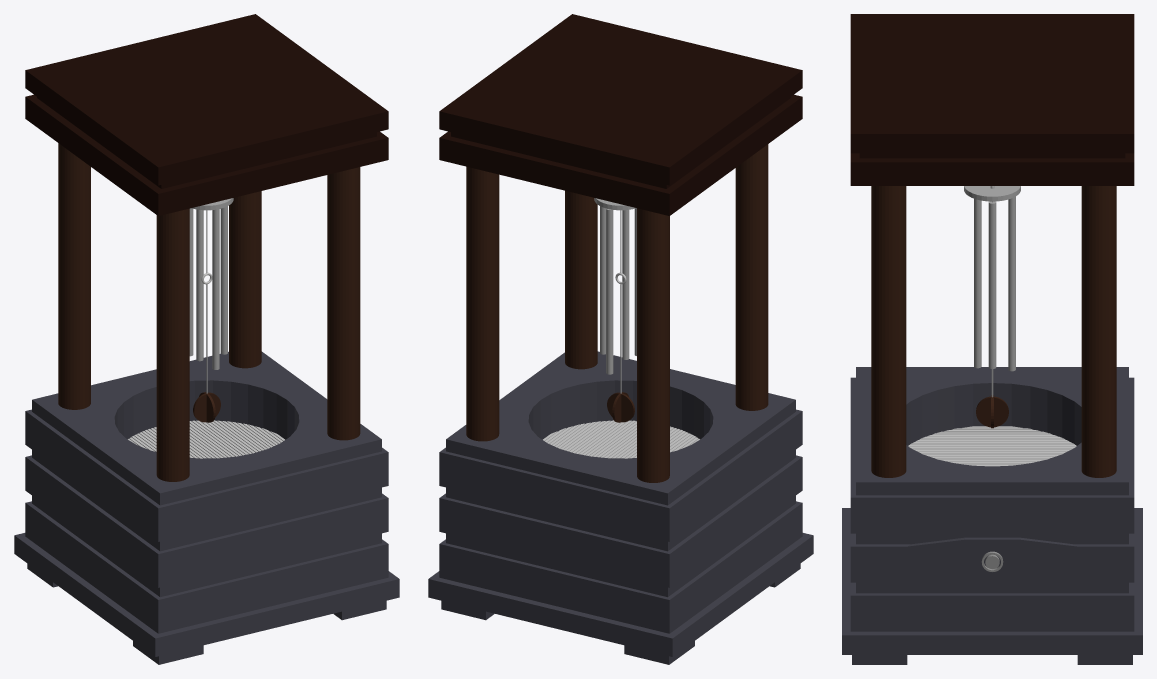
Rendered from Wind Chime Machine.fbx.
The picture shows the model from 3 angles, left to right: view 1: azimuth 30°, elevation 25°; view 2: azimuth 150°, elevation 25°; view 3: azimuth 270°, elevation 25°; orthographic projection. The views are drawn at different scales.
Parts seen in each view (by area): view 1: Base, Top, Support, Chimes, Base Grid, Chimer Mechanic; view 2: Base, Top, Support, Chimes, Base Grid, Chimer Mechanic; view 3: Base, Top, Support, Base Grid, Chimes, Chimer Mechanic, Chime Top.
Part boxes in pixels (left/top/right/bottom): Base: left=14, top=351, right=399, bottom=664; Top: left=25, top=14, right=388, bottom=215; Support: left=58, top=143, right=360, bottom=481; Chimes: left=189, top=206, right=227, bottom=369; Base Grid: left=128, top=420, right=284, bottom=458; Chimer Mechanic: left=193, top=392, right=220, bottom=422; Base: left=428, top=351, right=813, bottom=664; Top: left=439, top=14, right=802, bottom=215; Support: left=466, top=144, right=768, bottom=482; Chimes: left=600, top=206, right=636, bottom=374; Base Grid: left=543, top=420, right=699, bottom=458; Chimer Mechanic: left=607, top=392, right=634, bottom=422; Base: left=842, top=367, right=1142, bottom=664; Top: left=850, top=14, right=1134, bottom=185; Support: left=871, top=186, right=1116, bottom=477; Base Grid: left=908, top=426, right=1076, bottom=466; Chimes: left=974, top=196, right=1015, bottom=371; Chimer Mechanic: left=976, top=395, right=1008, bottom=428; Chime Top: left=964, top=186, right=1020, bottom=201.
Size of the model in its own units: 83.55 by 163 by 83.55.
